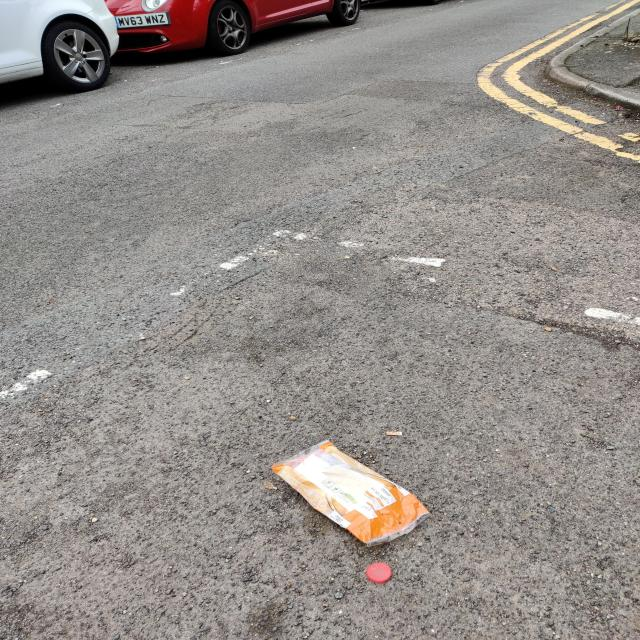litter: (363, 561, 397, 588)
